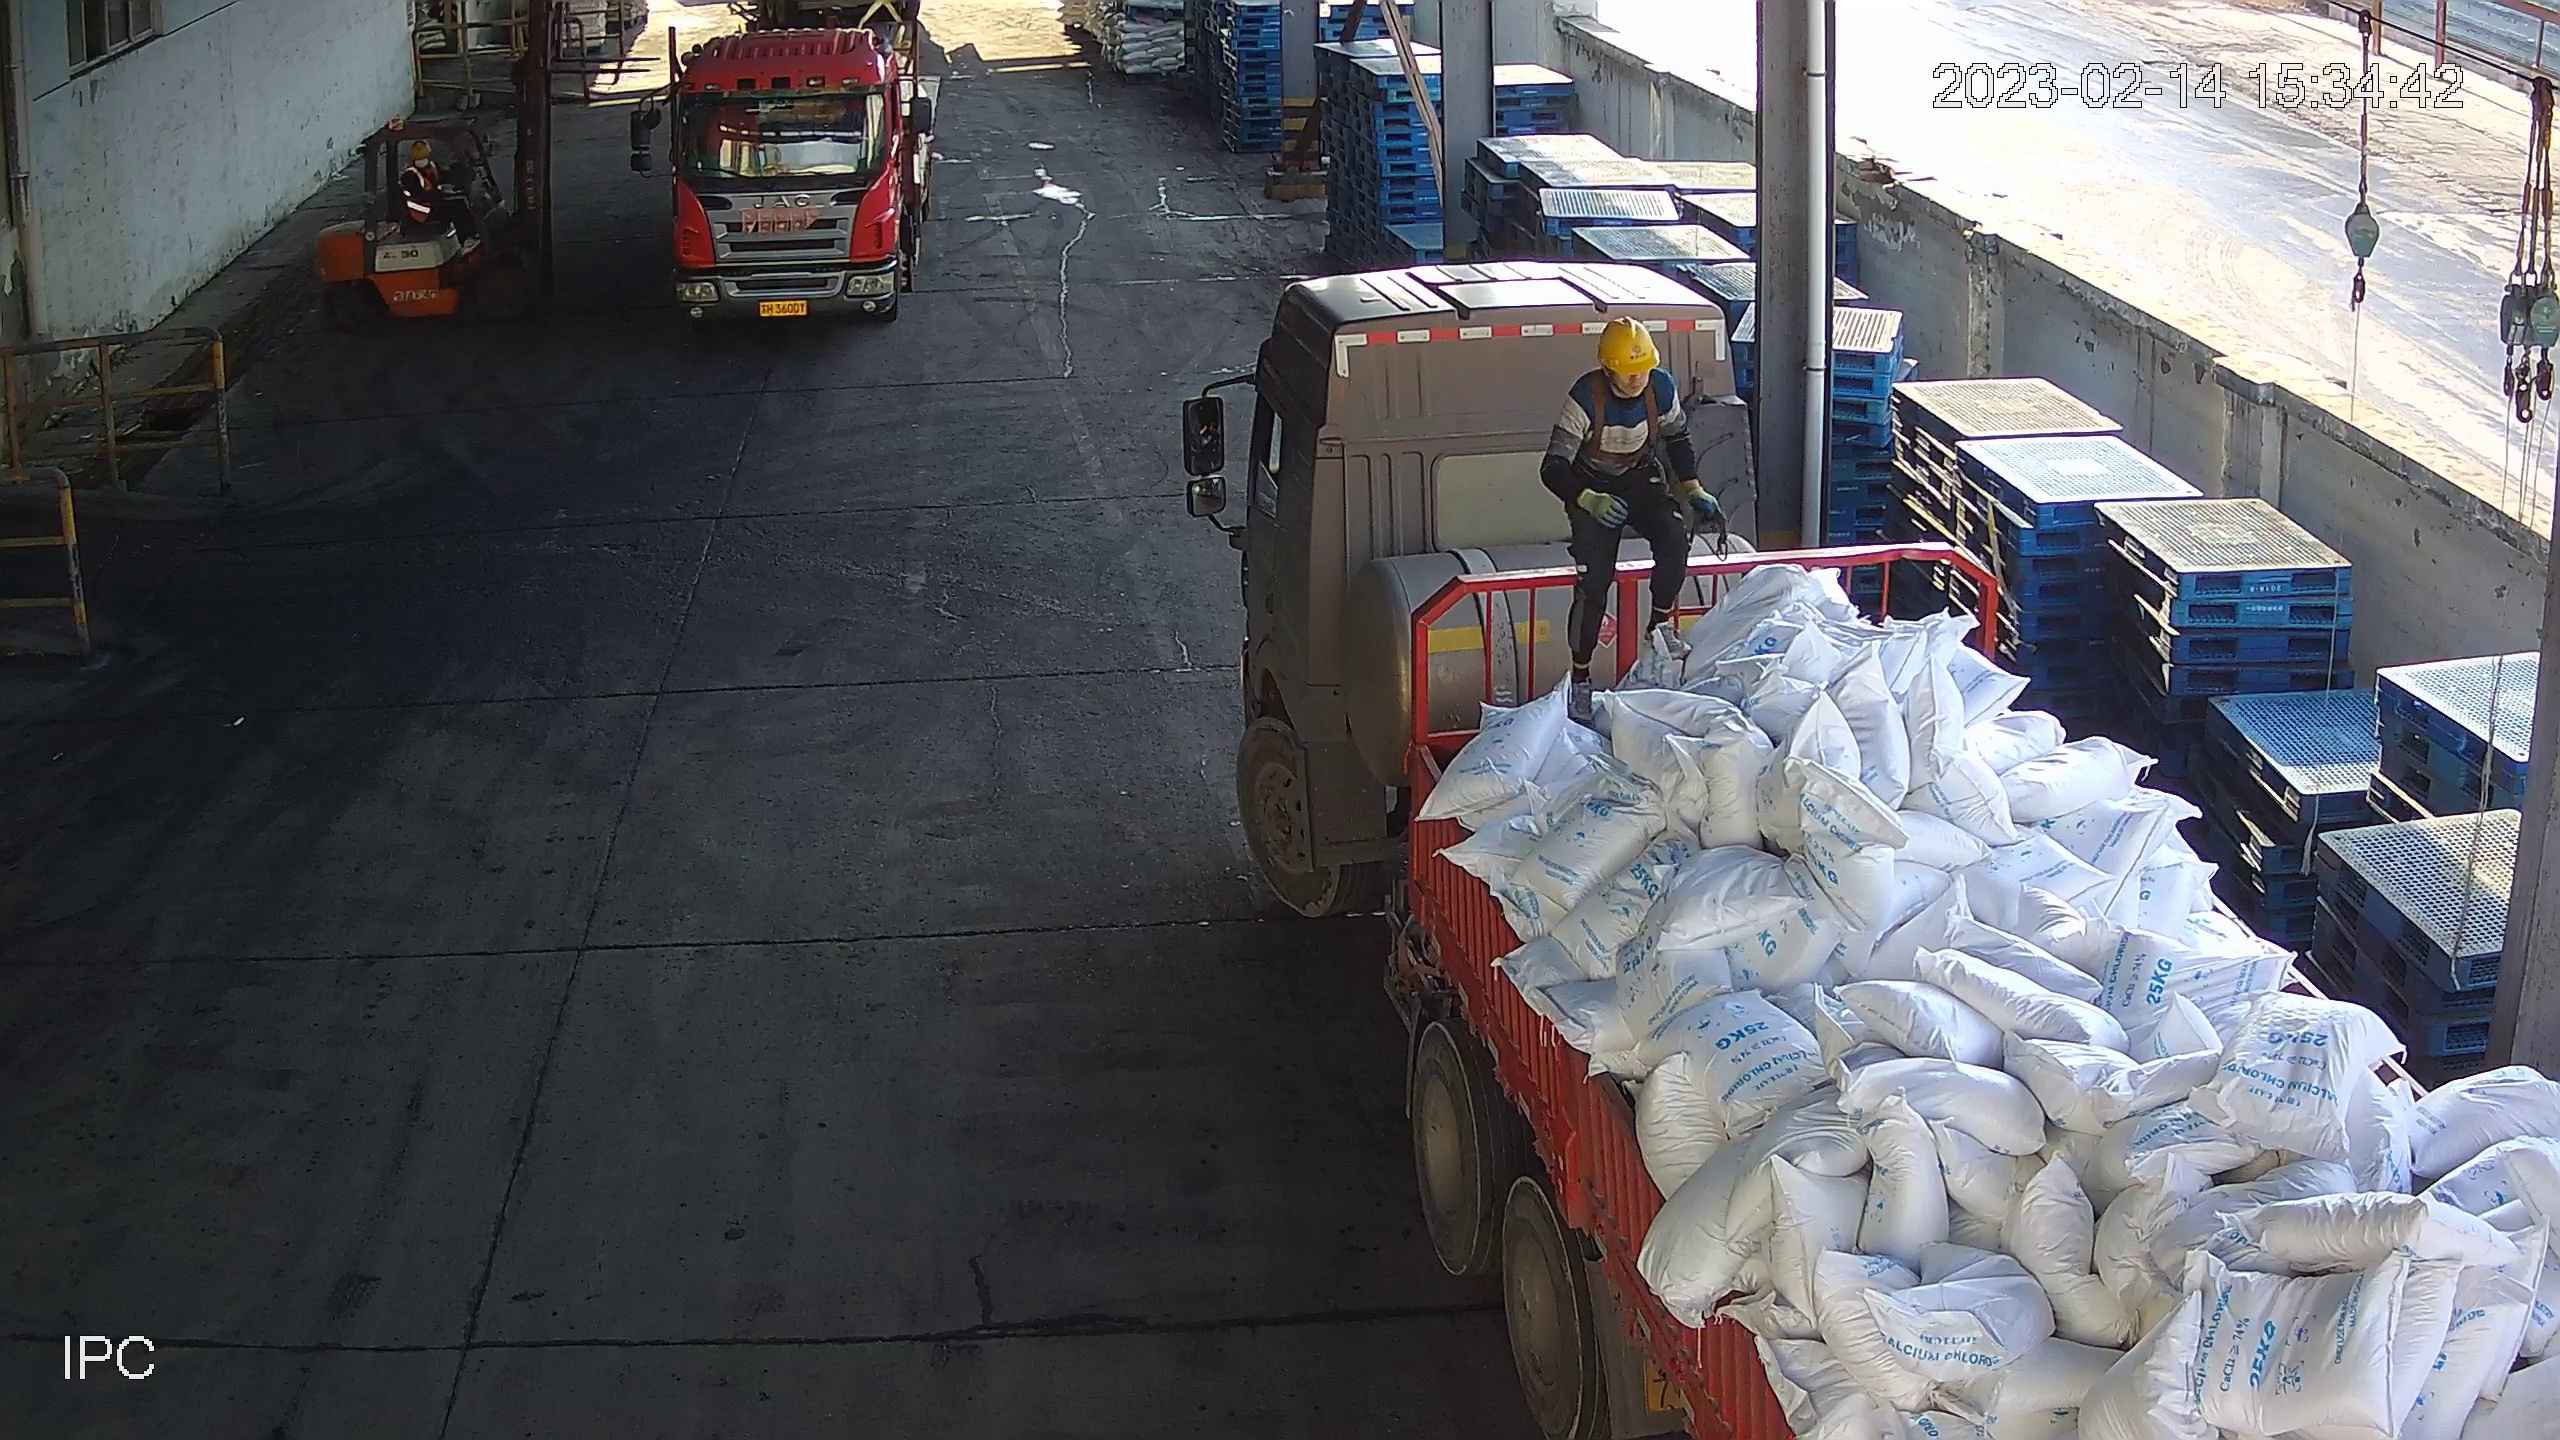belt: (1592, 399, 1670, 471)
head: (1570, 322, 1688, 425)
helmet: (1593, 316, 1662, 369)
people: (1535, 318, 1727, 723)
truck: (1160, 257, 2560, 1440), (635, 1, 942, 350)
